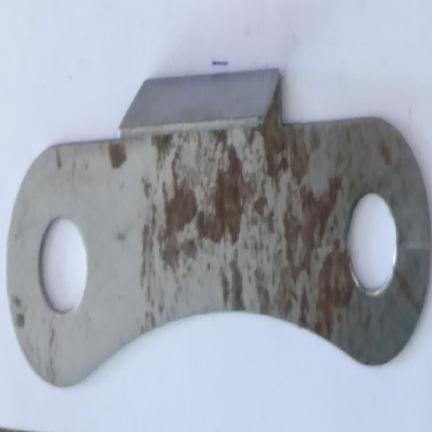besi_tidak_karat: (8, 143, 139, 382), (338, 119, 430, 362), (119, 68, 279, 137)
karat: (244, 83, 342, 276), (222, 241, 354, 339), (198, 148, 254, 248), (158, 156, 196, 274), (139, 203, 156, 289), (149, 133, 177, 178), (105, 141, 129, 174), (181, 242, 196, 259)
